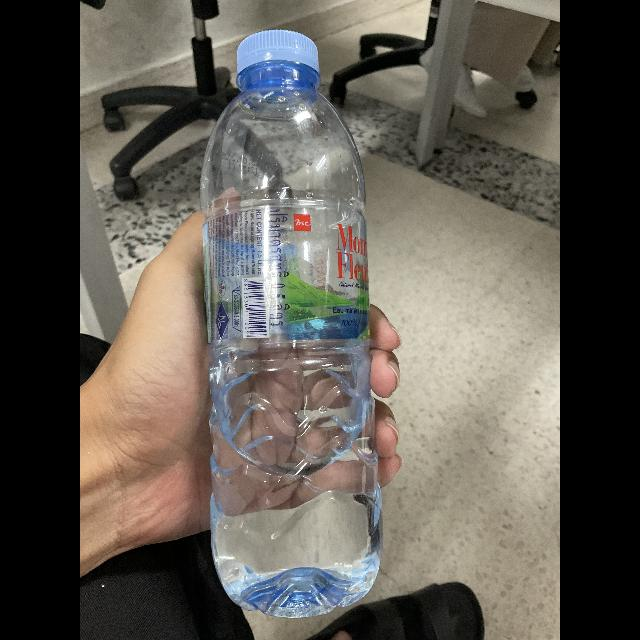plastic_bottle: (188, 31, 400, 619)
plastic_bottle_cap: (235, 28, 319, 86)
